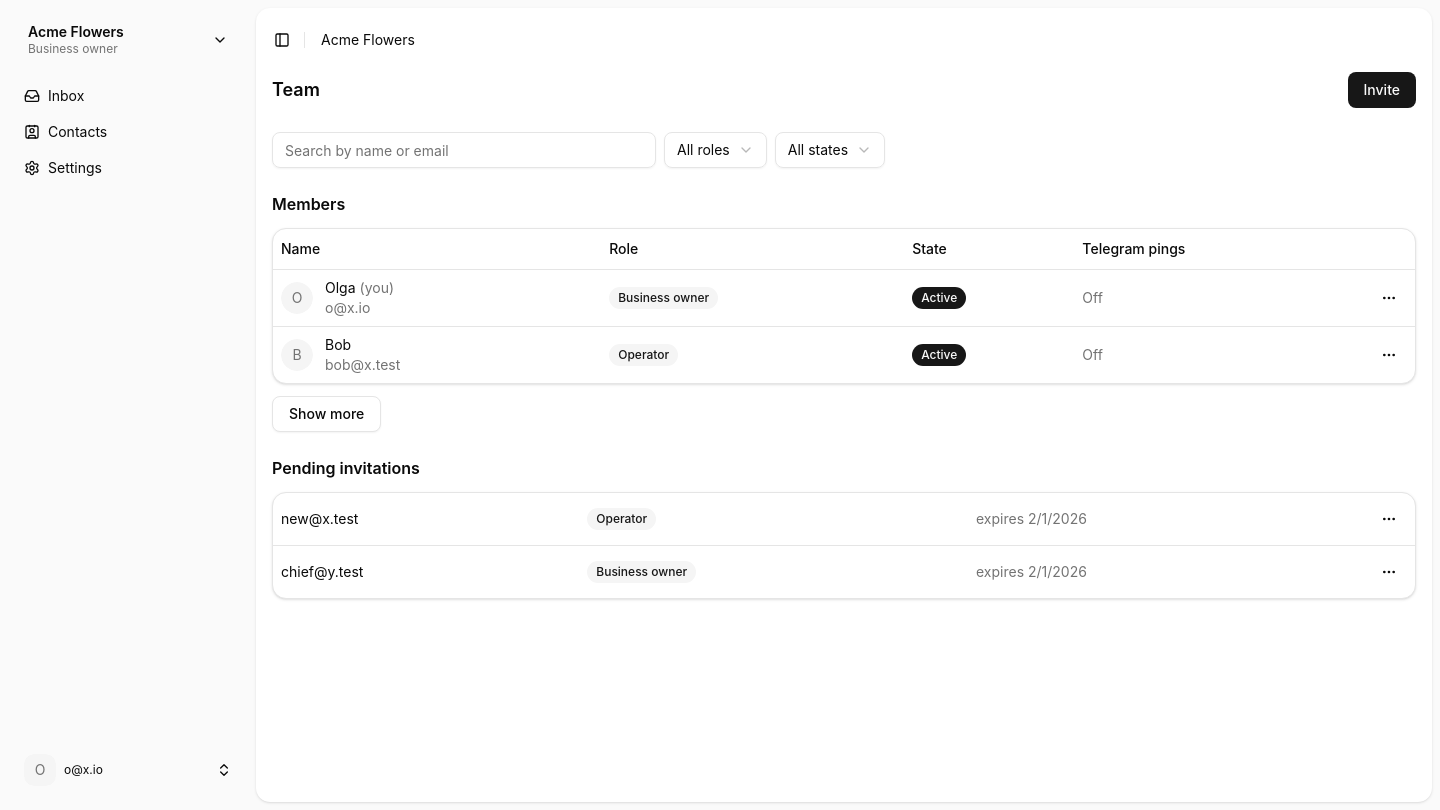
Test: Team filters: nothing matches (AC-09) › Show more is still available under the empty sentence when more rows exist
The width and height of the screenshot is (1440, 810).
Expected: the text "Bob" is shown, [325, 336, 351, 352]
Type "zzz-nobody" into the field with placeholder "Search by name or email". click: [464, 150]
box: [272, 132, 656, 168]
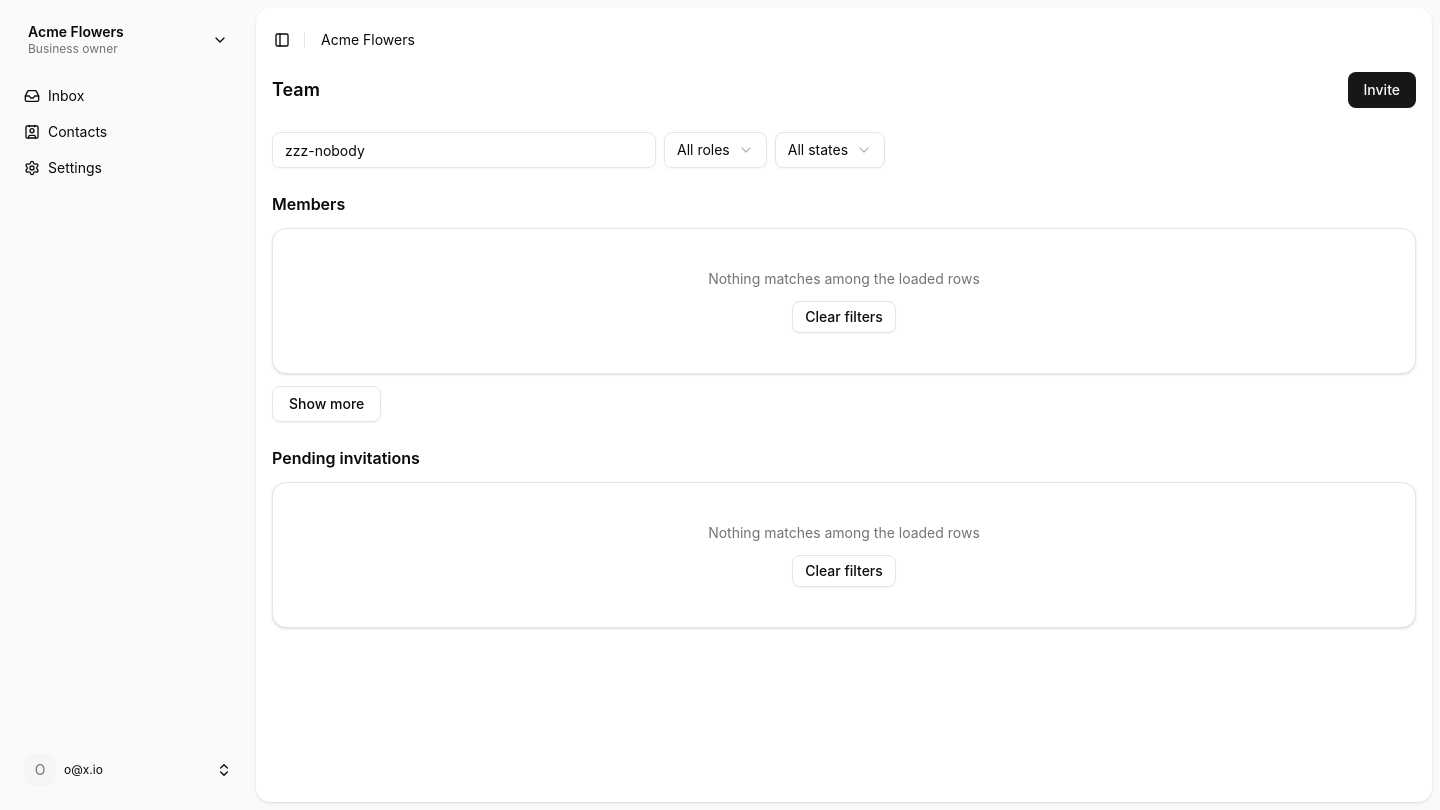
Expected: the button "Show more" is shown, [272, 386, 381, 422]
Expected: the 1st text "Nothing matches among the loaded rows" is shown, [708, 269, 980, 289]
